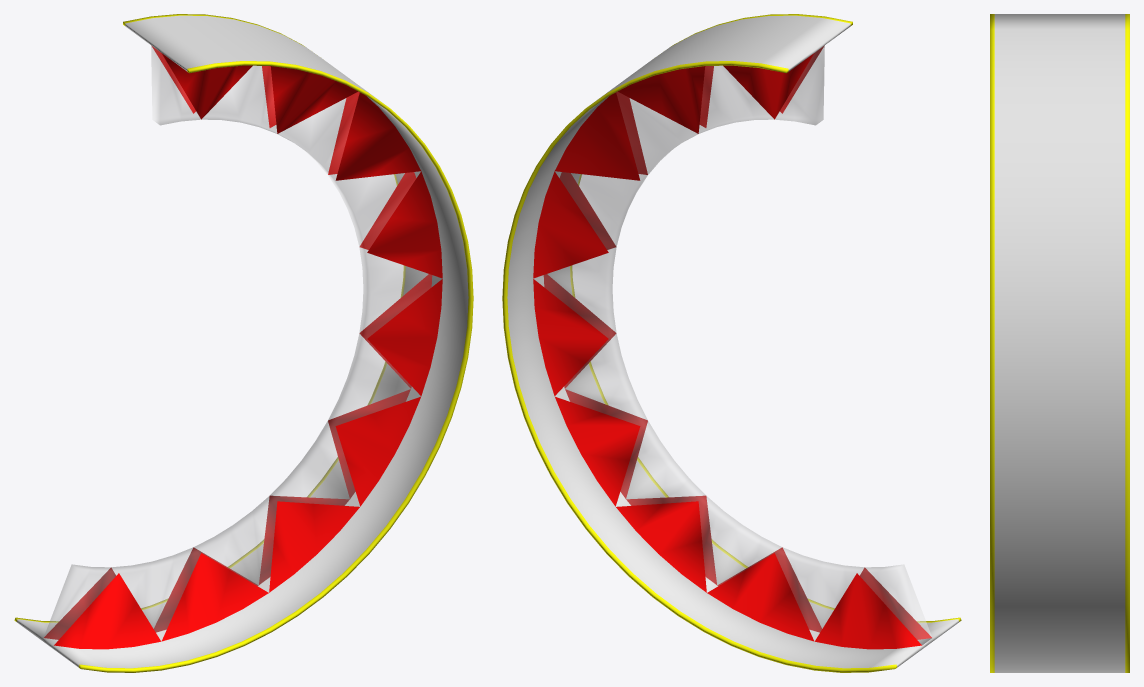
Rendered from FlickNote08.fbx.
3 views of the same model, side by side, from view 1: azimuth 30°, elevation 25°; view 2: azimuth 150°, elevation 25°; view 3: azimuth 270°, elevation 25° (orthographic). The views are drawn at different scales.
Parts seen in each view (by area): view 1: FlickNote08; view 2: FlickNote08; view 3: FlickNote08.
Boxes of the visible parts, box(x1,y1,x2,y2) form: FlickNote08: box(14, 14, 473, 672); FlickNote08: box(502, 14, 961, 672); FlickNote08: box(990, 14, 1129, 672).
Bounding box in the file's own units: 137 × 40 × 198.
